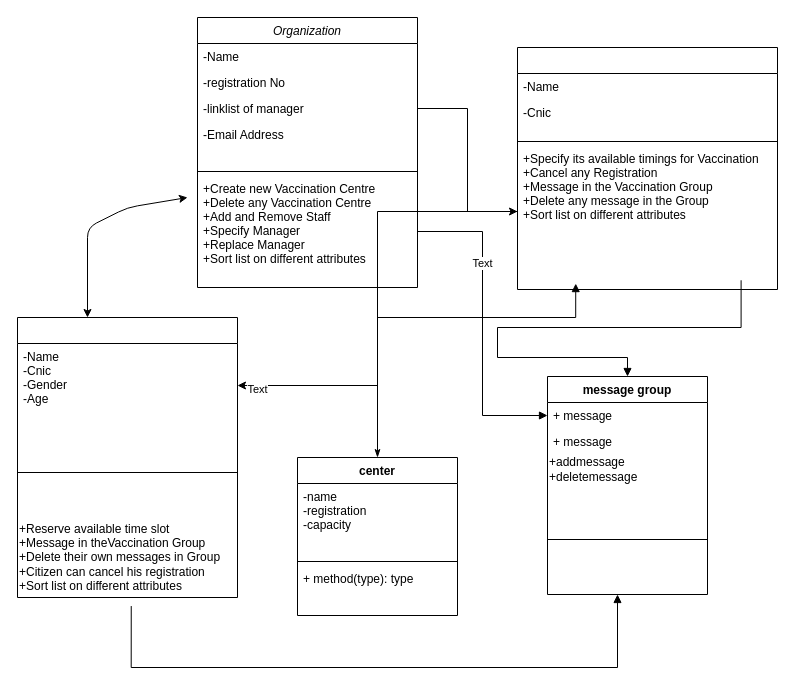
Image size: 795x693. Some labels were removed from this diagram. Each missing label, with the box of its shape:
Citizan: (16, 316, 238, 598)
Manager: (516, 46, 778, 290)
